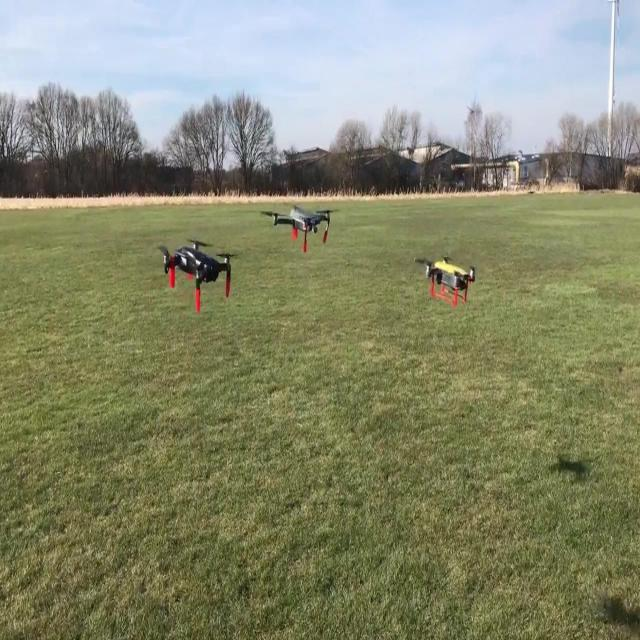UAV: (156, 238, 238, 314), (260, 204, 340, 253), (414, 252, 478, 306)
